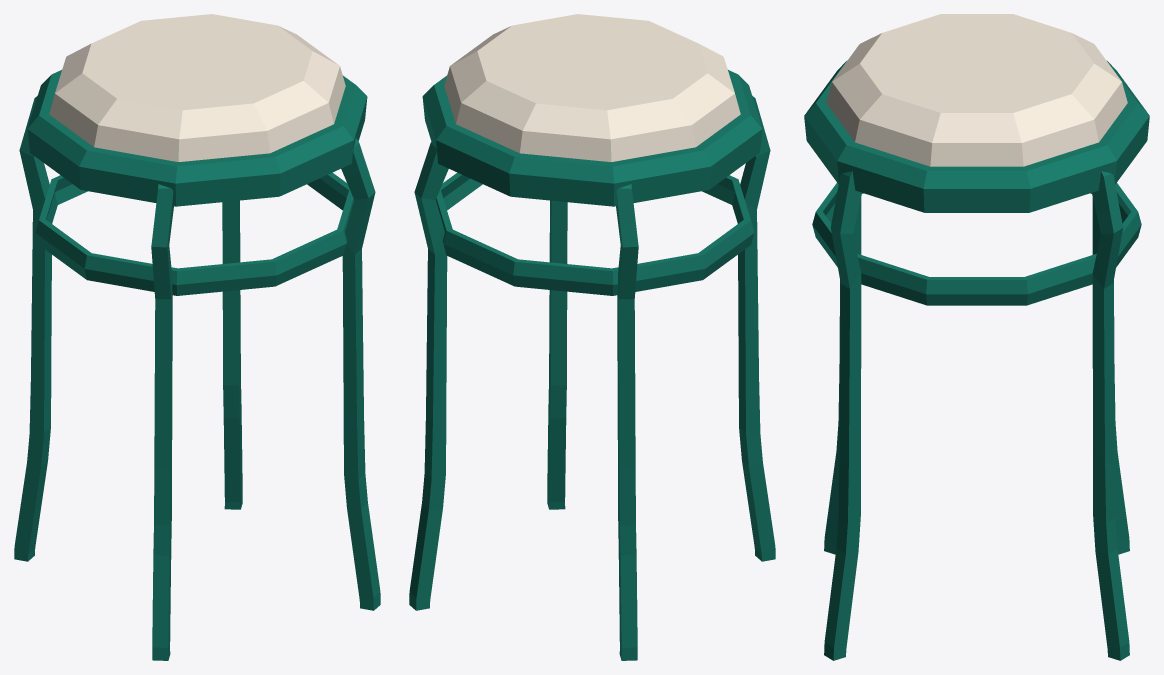
Rendered from stool_b.glb.
The picture shows the model from 3 angles, left to right: view 1: azimuth 30°, elevation 25°; view 2: azimuth 150°, elevation 25°; view 3: azimuth 270°, elevation 25°; orthographic projection. The views are drawn at different scales.
Visible parts, largest first — view 1: body; view 2: body; view 3: body.
Part boxes in pixels (x1,y1,x2,y2): body: [14, 14, 380, 660]; body: [409, 14, 775, 660]; body: [804, 14, 1149, 660].
Bounding box in the file's own units: 0.36 × 0.62 × 0.36.
